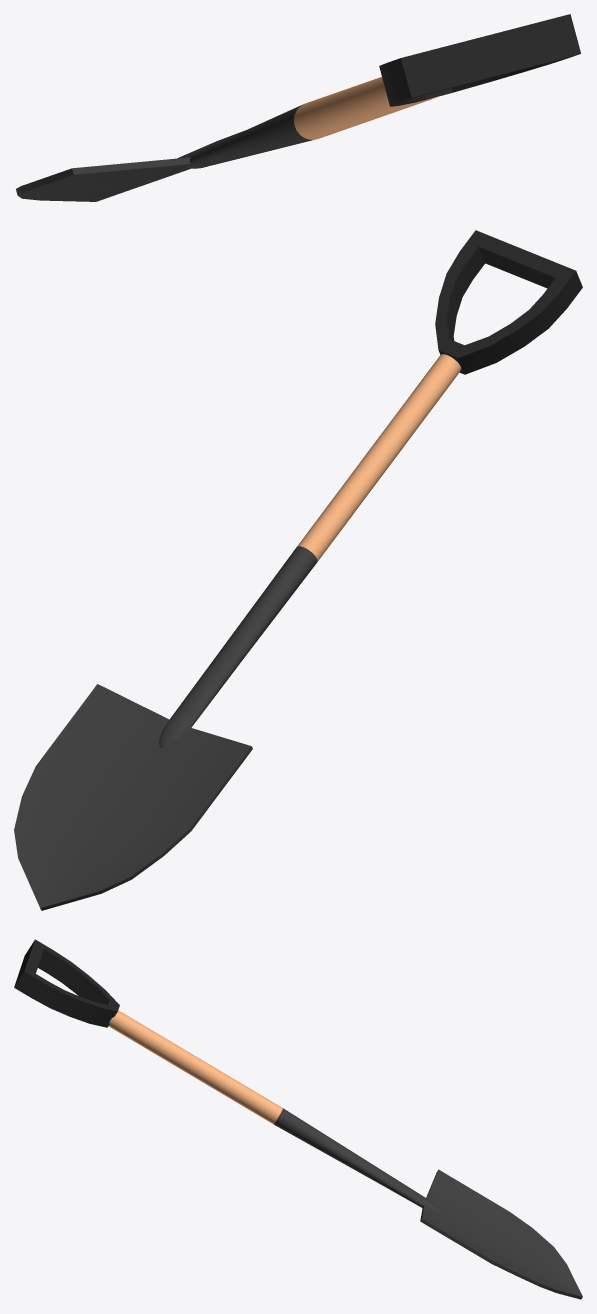
The model's file is Shovel.glb.
The picture shows the model from 3 angles, top to bottom: view 1: azimuth 30°, elevation 25°; view 2: azimuth 150°, elevation 25°; view 3: azimuth 270°, elevation 25°; orthographic projection. The views are drawn at different scales.
Parts seen in each view (by area): view 1: Box004, Box003, Cylinder002, Object002; view 2: Box003, Box004, Cylinder002, Object002; view 3: Box003, Box004, Cylinder002, Object002.
Part boxes in pixels (x1,y1,x2,y2): Box004: [379, 14, 580, 106]; Box003: [16, 131, 243, 201]; Cylinder002: [294, 77, 439, 139]; Object002: [185, 104, 312, 168]; Box003: [14, 684, 252, 910]; Box004: [435, 230, 582, 374]; Cylinder002: [297, 354, 461, 561]; Object002: [159, 546, 317, 747]; Box003: [420, 1169, 582, 1299]; Box004: [14, 939, 119, 1027]; Cylinder002: [109, 1010, 282, 1124]; Object002: [273, 1108, 445, 1214].
Size of the model in its own units: 131590 by 228427 by 382650.
